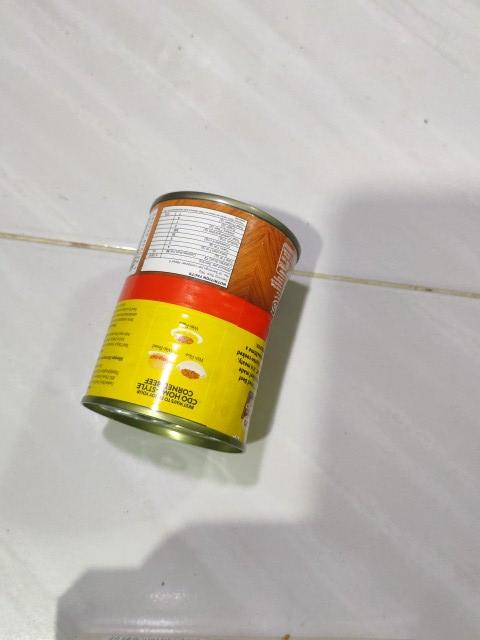canned-goods: (74, 181, 302, 456)
